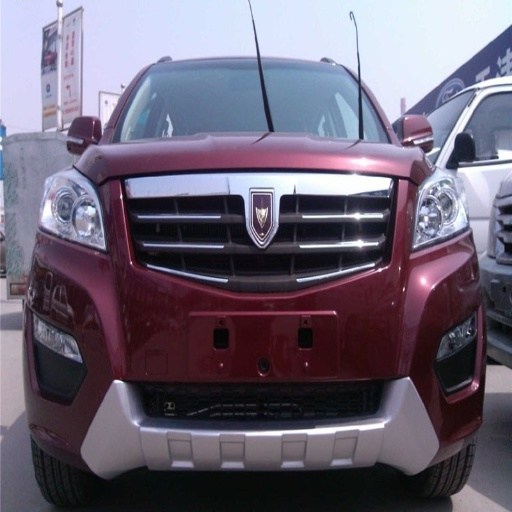front_bumper: (28, 183, 478, 475)
front_glass: (96, 62, 392, 142)
front_left_door: (468, 88, 509, 139)
front_right_light: (40, 169, 108, 253)
